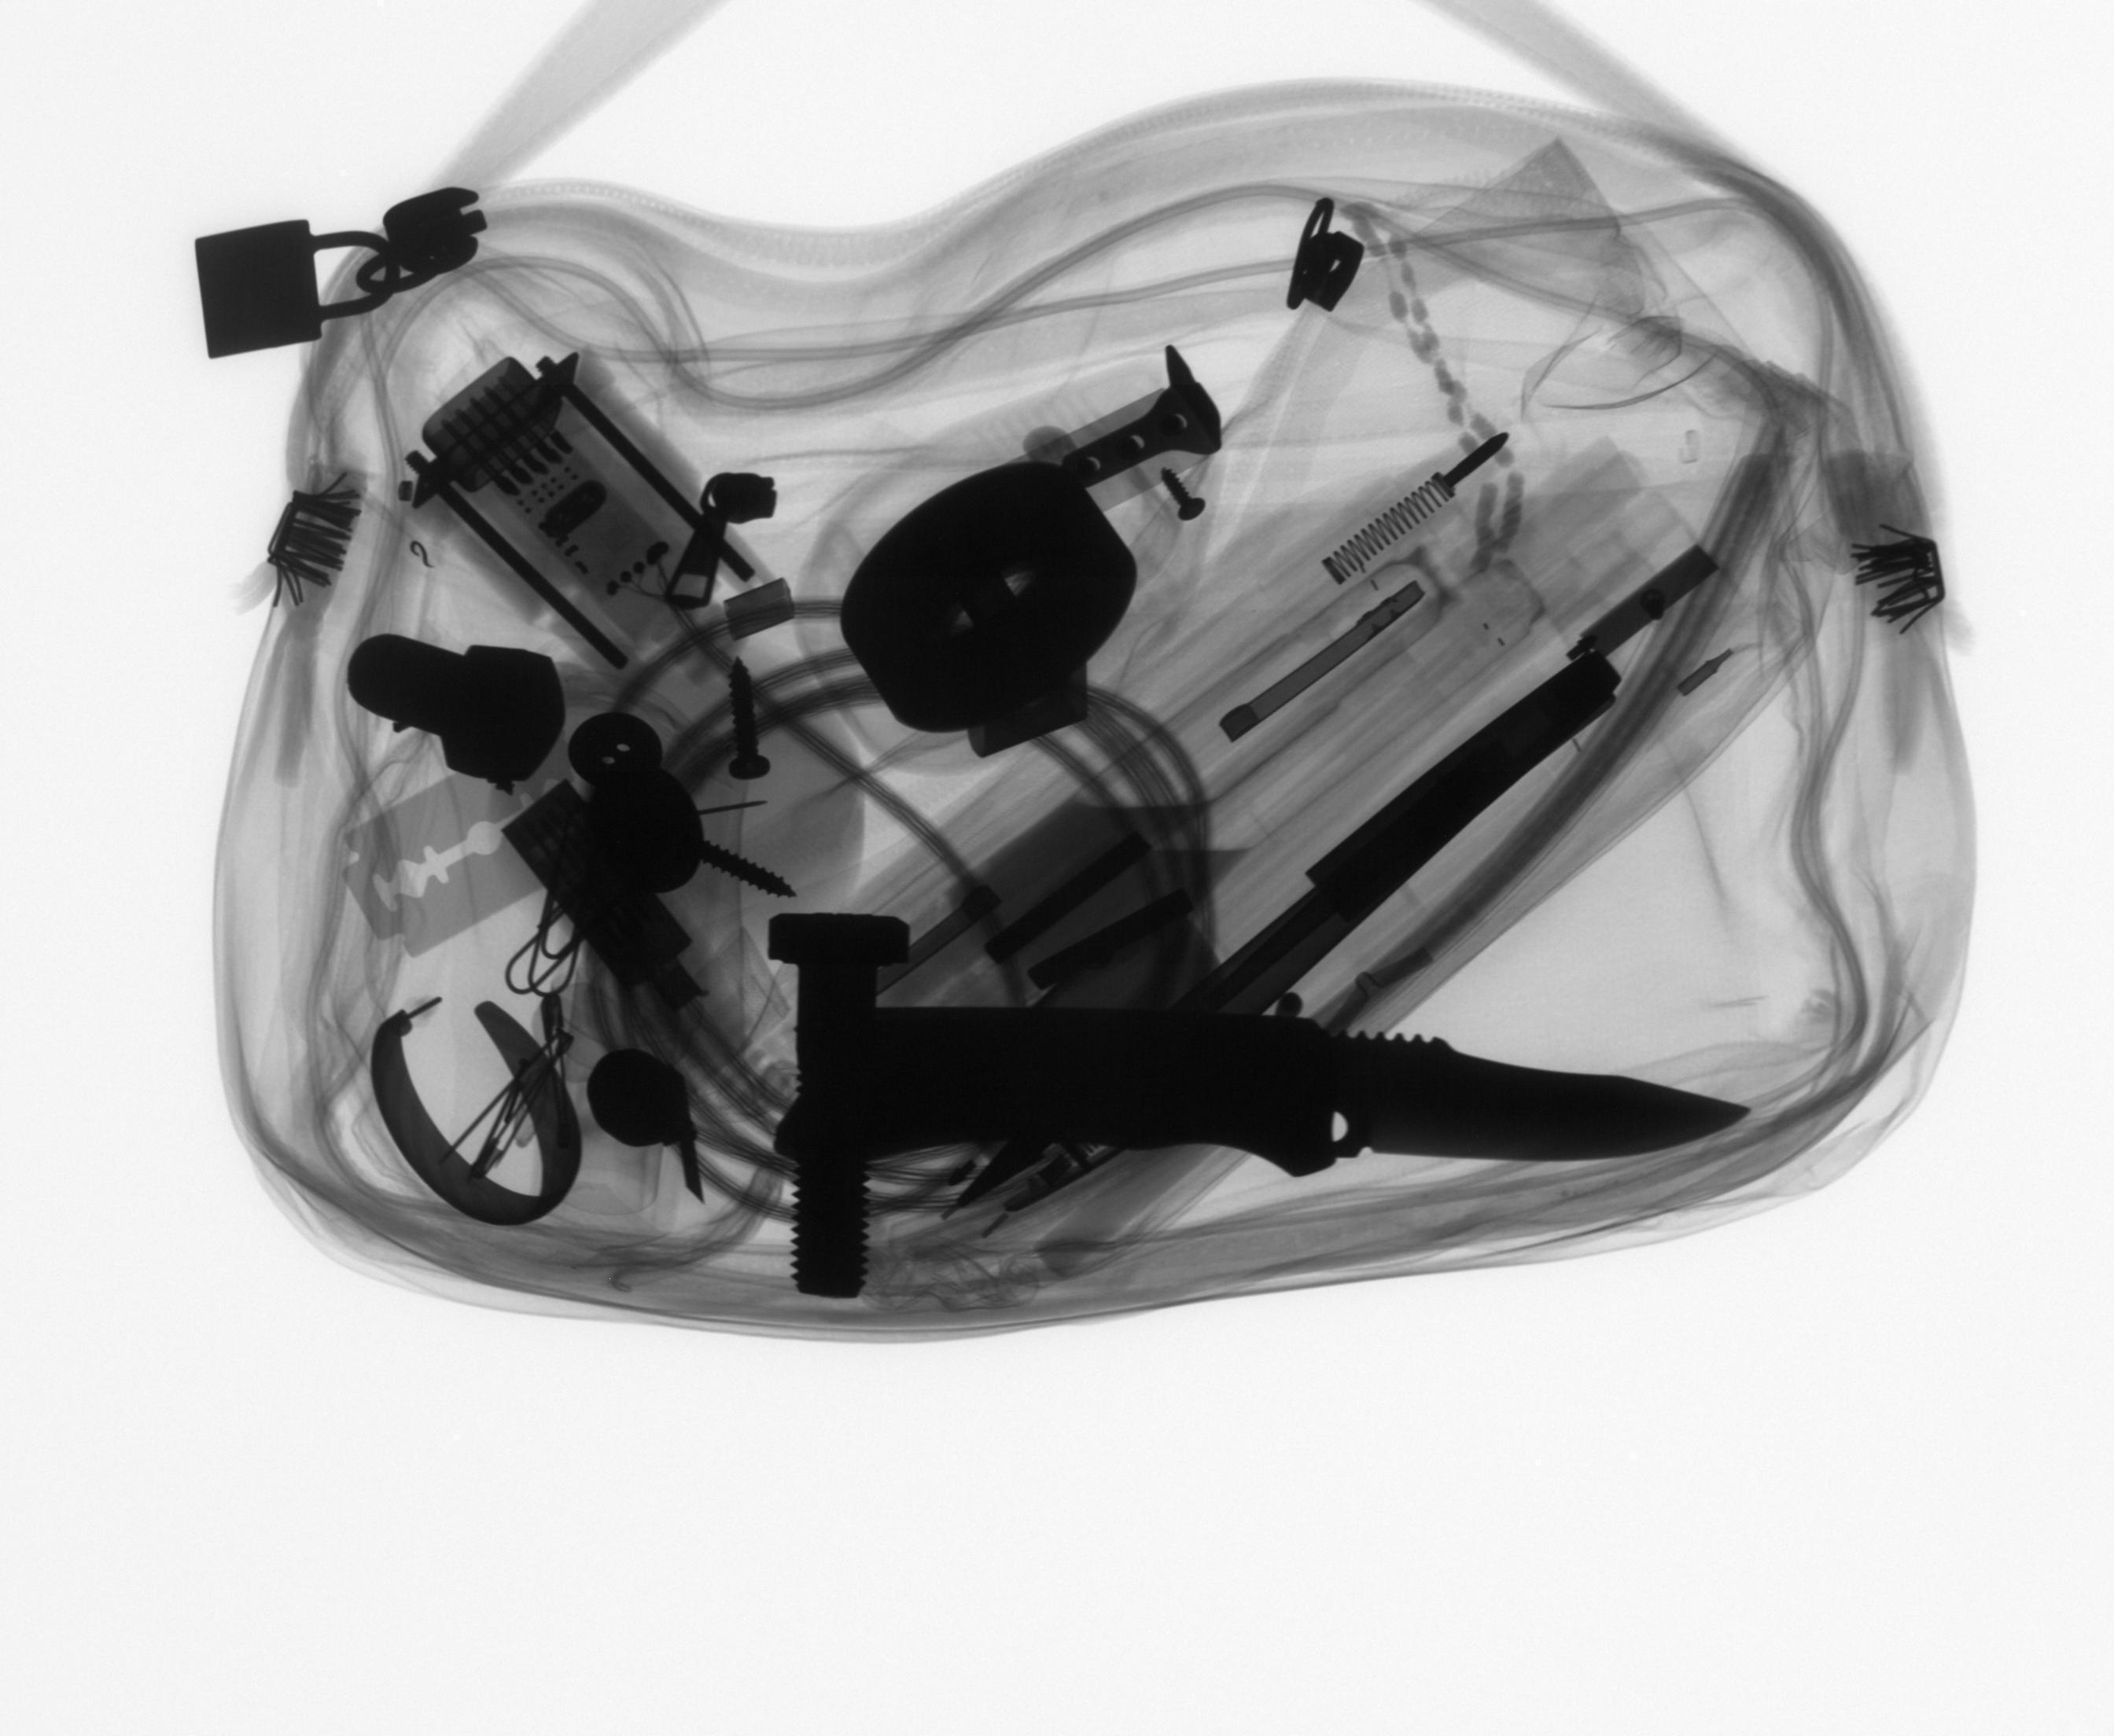Knife: (769, 985, 1754, 1185)
RazorBlade: (332, 727, 634, 964)
